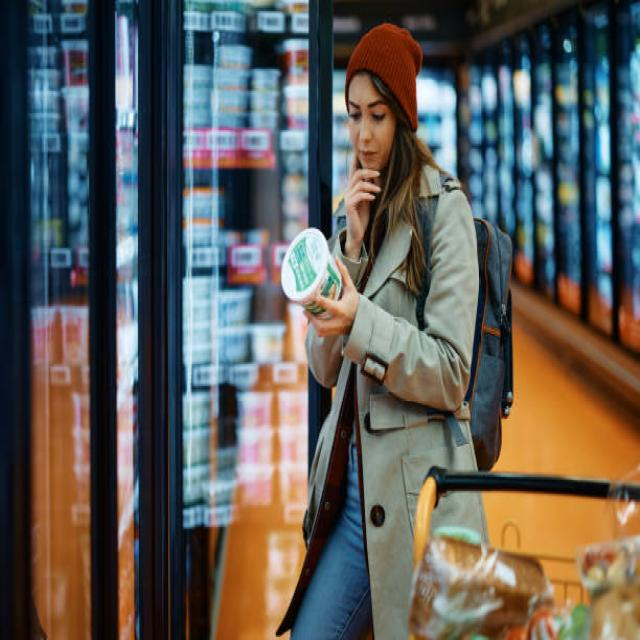article: (282, 229, 341, 315)
bags: (465, 218, 512, 469)
hands: (305, 259, 359, 336), (342, 168, 382, 258)
person: (277, 24, 478, 638)
